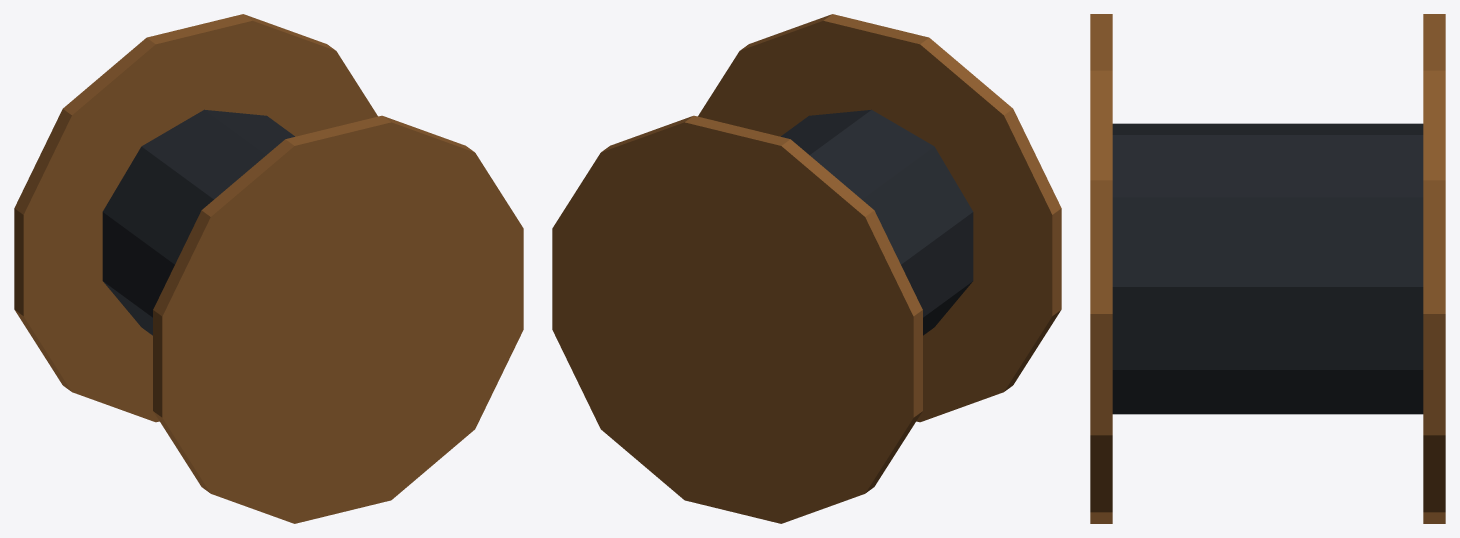
File: cable_spool.glb
The picture shows the model from 3 angles, left to right: view 1: azimuth 30°, elevation 25°; view 2: azimuth 150°, elevation 25°; view 3: azimuth 270°, elevation 25°; orthographic projection. The views are drawn at different scales.
Parts seen in each view (by area): view 1: cable_spool; view 2: cable_spool; view 3: cable_spool.
Part boxes in pixels (left/top/right/bottom): cable_spool: left=14, top=14, right=523, bottom=523; cable_spool: left=552, top=14, right=1061, bottom=523; cable_spool: left=1090, top=14, right=1445, bottom=523.
Bounding box in the file's own units: 1.35 × 1.35 × 0.96.
